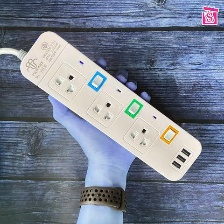three_eye_plug: (15, 25, 204, 186)
